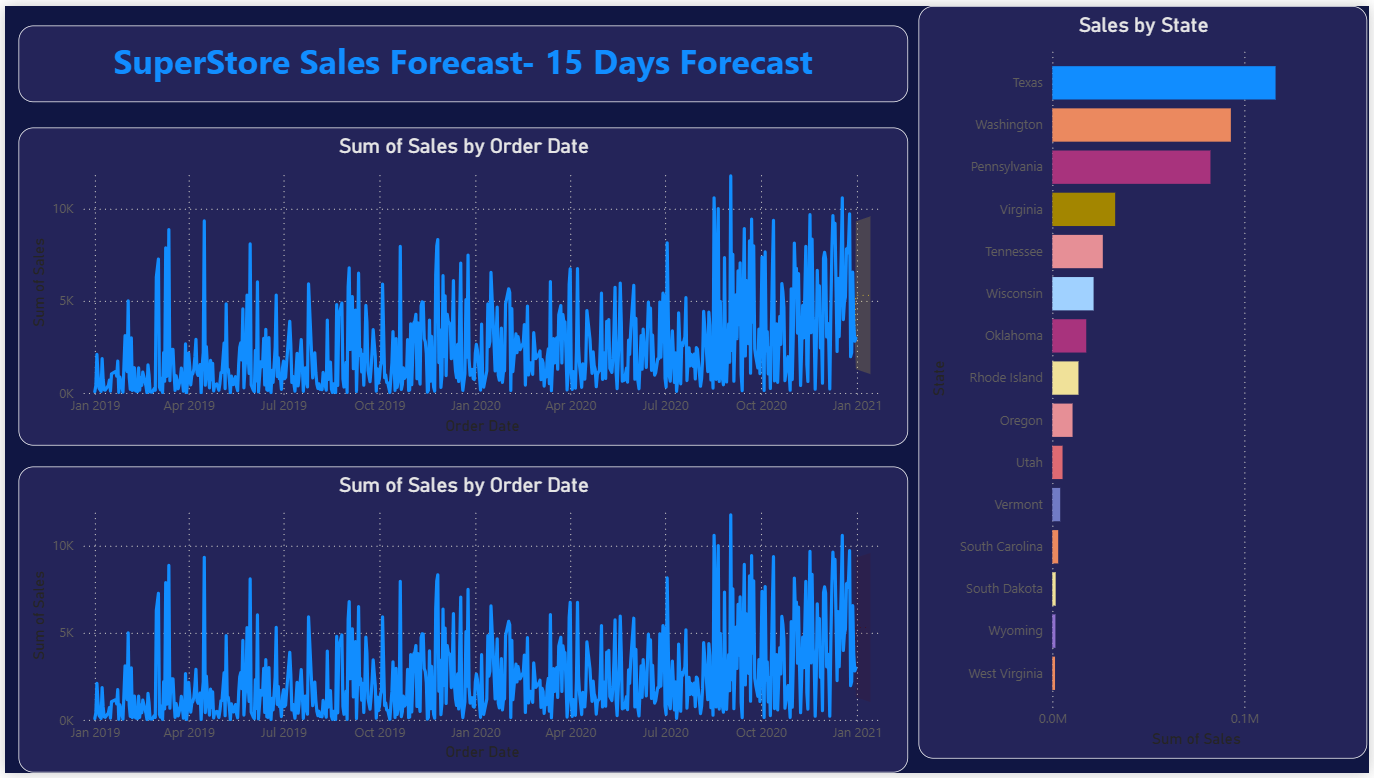

The page's visual inventory and layout, read from the dashboard file:
{"tool":"powerbi","page":{"name":"Page 2","canvas":[1280,720],"ordinal":1},"visuals":[{"type":"lineChart","fields":{"Y":["Sum(SuperStore_Sales_Dataset.Sales)"],"Category":["SuperStore_Sales_Dataset.Order Date"]},"box":[13.2,113.4,835.3,298.6],"z":0},{"type":"lineChart","fields":{"Y":["Sum(SuperStore_Sales_Dataset.Sales)"],"Category":["SuperStore_Sales_Dataset.Order Date"]},"box":[13.2,432.8,835.3,287.2],"z":1000},{"type":"clusteredBarChart","title":"Sales by State","fields":{"Category":["SuperStore_Sales_Dataset.State"],"Y":["Sum(SuperStore_Sales_Dataset.Sales)"]},"box":[858,0,421.4,706.8],"z":2000},{"type":"textbox","box":[13.2,18.9,835.3,71.8],"z":3000}]}

Visuals, with their boxes in screenshot pixels (x1, y1, x2, y2), scaled from the page's 1280x720 canvas onto the 1374x778 screenshot:
lineChart - Sum(SuperStore_Sales_Dataset.Sales) x SuperStore_Sales_Dataset.Order Date: bbox(14, 123, 911, 445)
lineChart - Sum(SuperStore_Sales_Dataset.Sales) x SuperStore_Sales_Dataset.Order Date: bbox(14, 468, 911, 777)
"Sales by State" clusteredBarChart: bbox(921, 0, 1373, 764)
textbox: bbox(14, 20, 911, 98)
